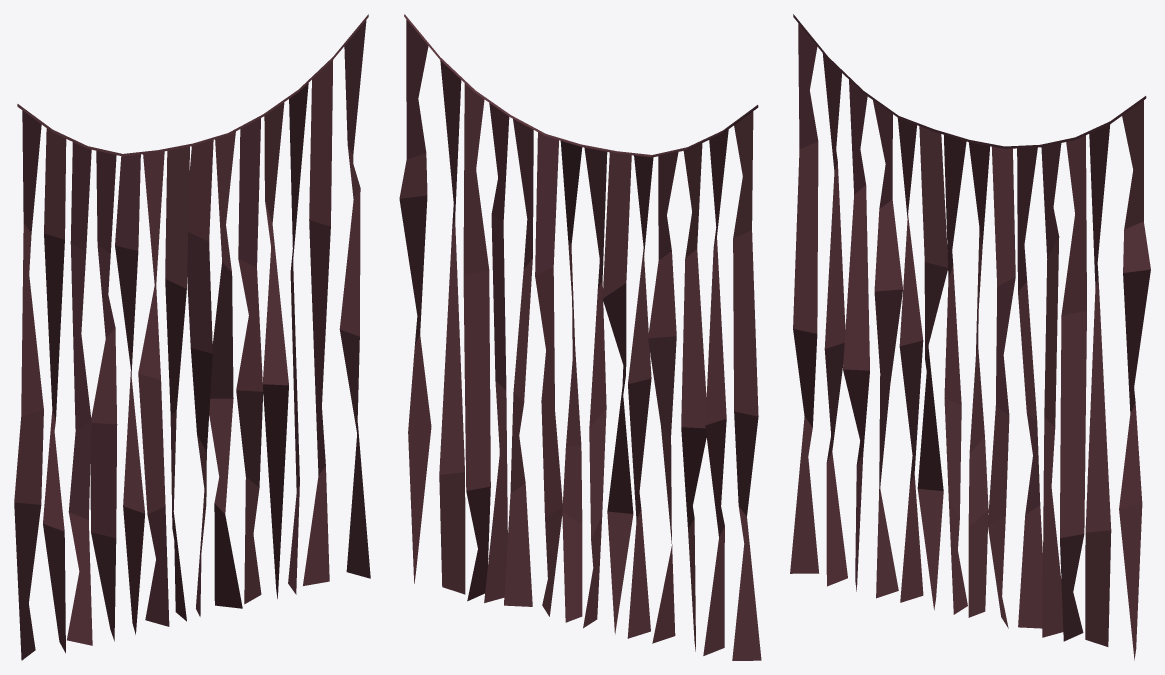
Rendered from celebration-wall-mix.fbx.
3 renders of one model, left to right at view 1: azimuth 30°, elevation 25°; view 2: azimuth 150°, elevation 25°; view 3: azimuth 330°, elevation 25°, orthographic.
Visible parts, largest first — view 1: celebration-wall-mix; view 2: celebration-wall-mix; view 3: celebration-wall-mix.
Boxes of the visible parts, <box> form: celebration-wall-mix: <box>14,14,370,660</box>; celebration-wall-mix: <box>399,14,761,660</box>; celebration-wall-mix: <box>790,14,1150,660</box>.
Bounding box in the file's own units: 1.88 × 2.87 × 0.1633.
